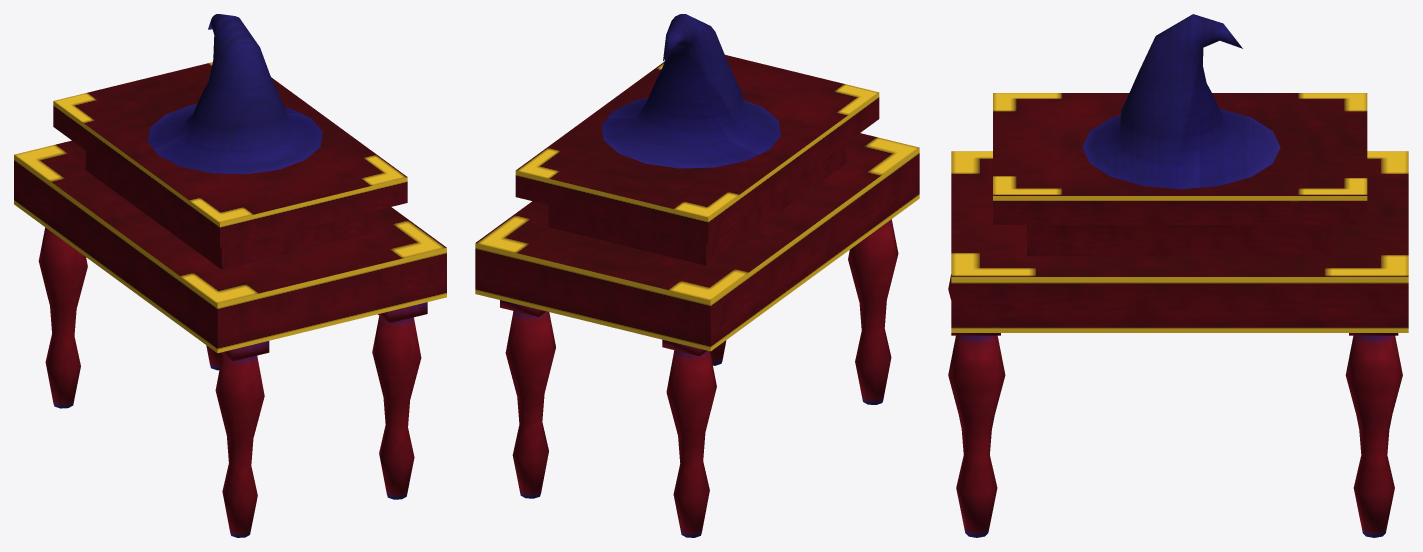
Rendered from witch hat.FBX.
3 views of the same model, side by side, from view 1: azimuth 30°, elevation 25°; view 2: azimuth 150°, elevation 25°; view 3: azimuth 270°, elevation 25° (orthographic). The views are drawn at different scales.
Parts seen in each view (by area): view 1: Cylinder002; view 2: Cylinder002; view 3: Cylinder002.
Part boxes in pixels (x1,y1,x2,y2): Cylinder002: (14,14,446,537); Cylinder002: (475,14,919,537); Cylinder002: (948,14,1408,537).
Size of the model in its own units: 106 by 189 by 164.
Materials: 1 (1 with a texture image).
